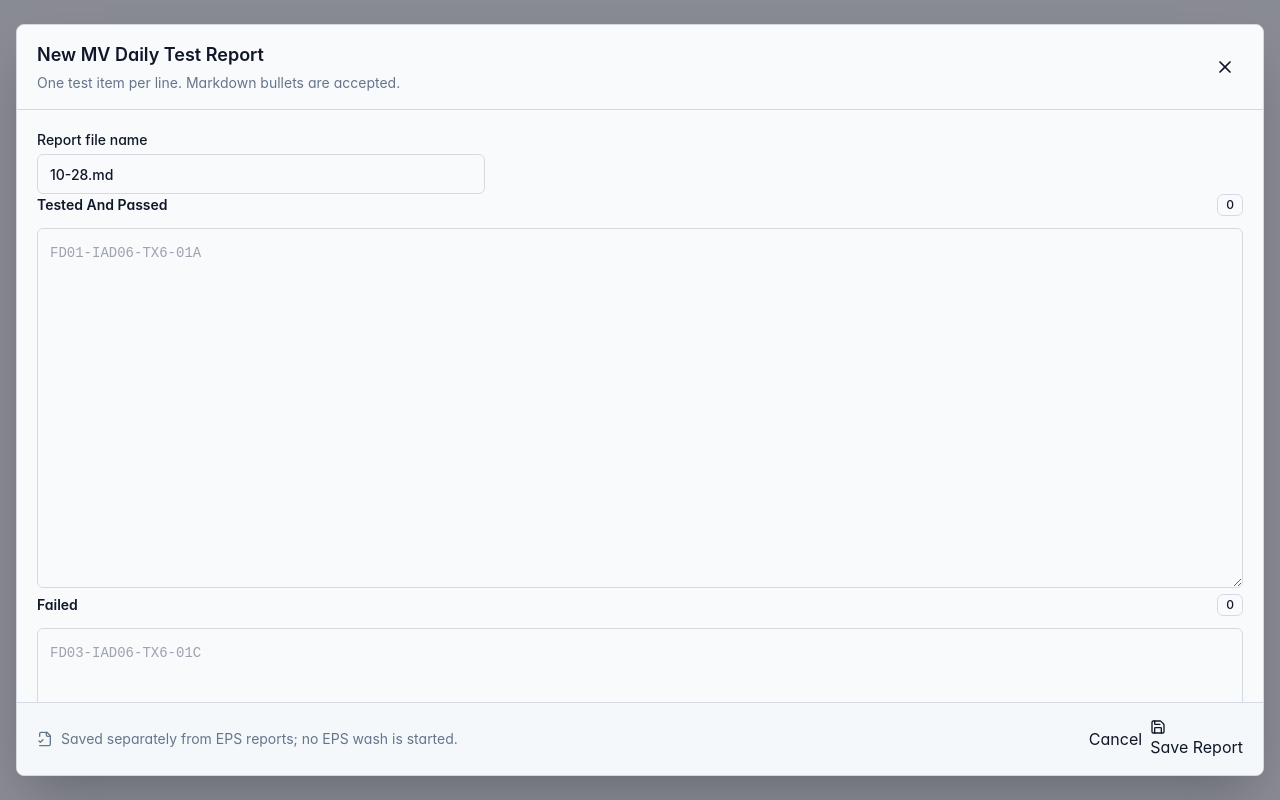
Test: DailyReportDialog › explains that a 404 MV save requires an automation service restart
Step 1. Click the button "Save Report" → click(1197, 739), box [1150,719,1243,759]
(page scrolled)
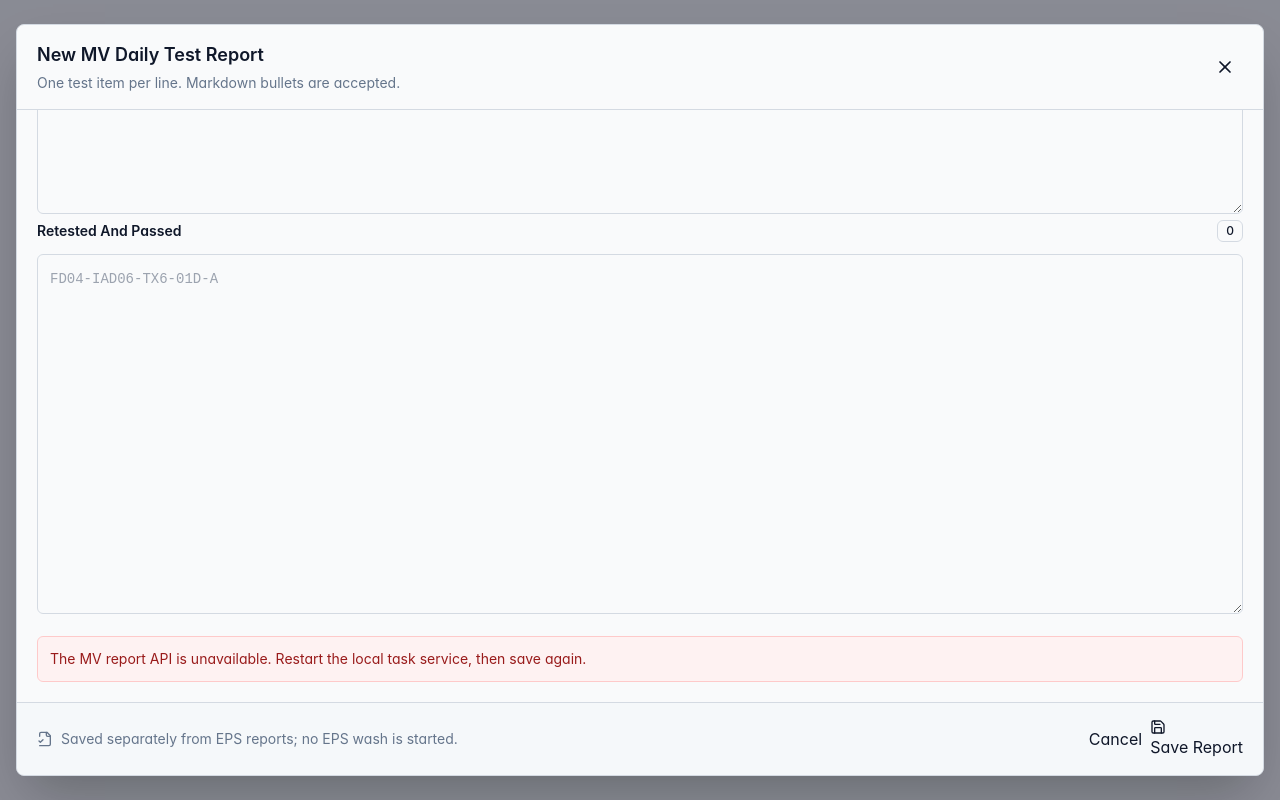
Check: the text "The MV report API is unavailable. Restart the local task service, then save again." is shown, box [50,650,586,667]
